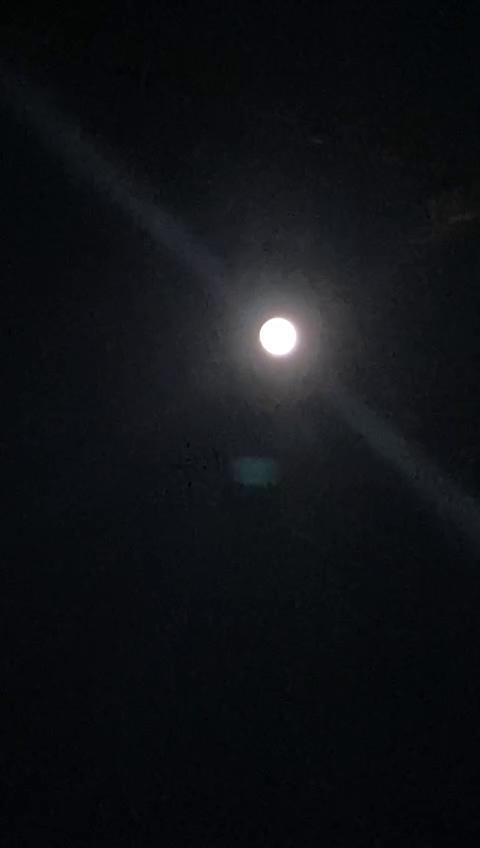moon: (249, 305, 316, 377)
